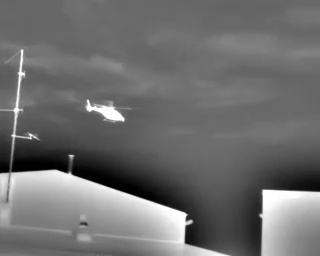HELICOPTER: (82, 93, 137, 131)
